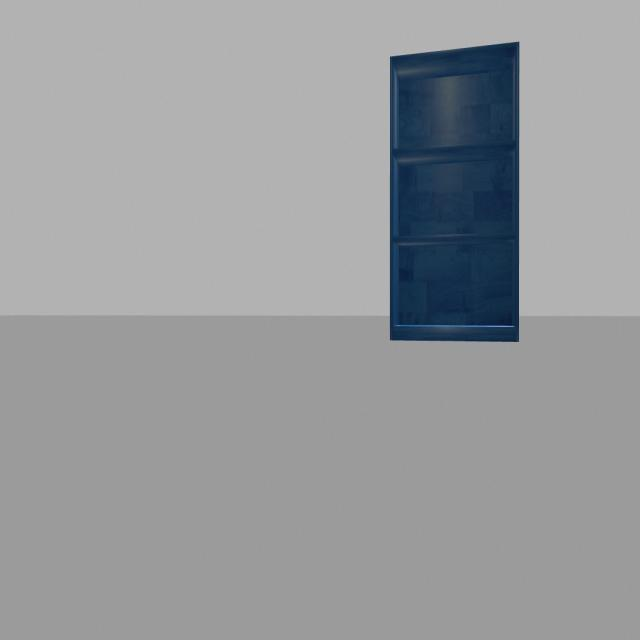shelf: (382, 36, 532, 364)
